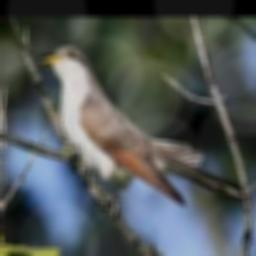Cuckoo: (40, 45, 203, 206)
